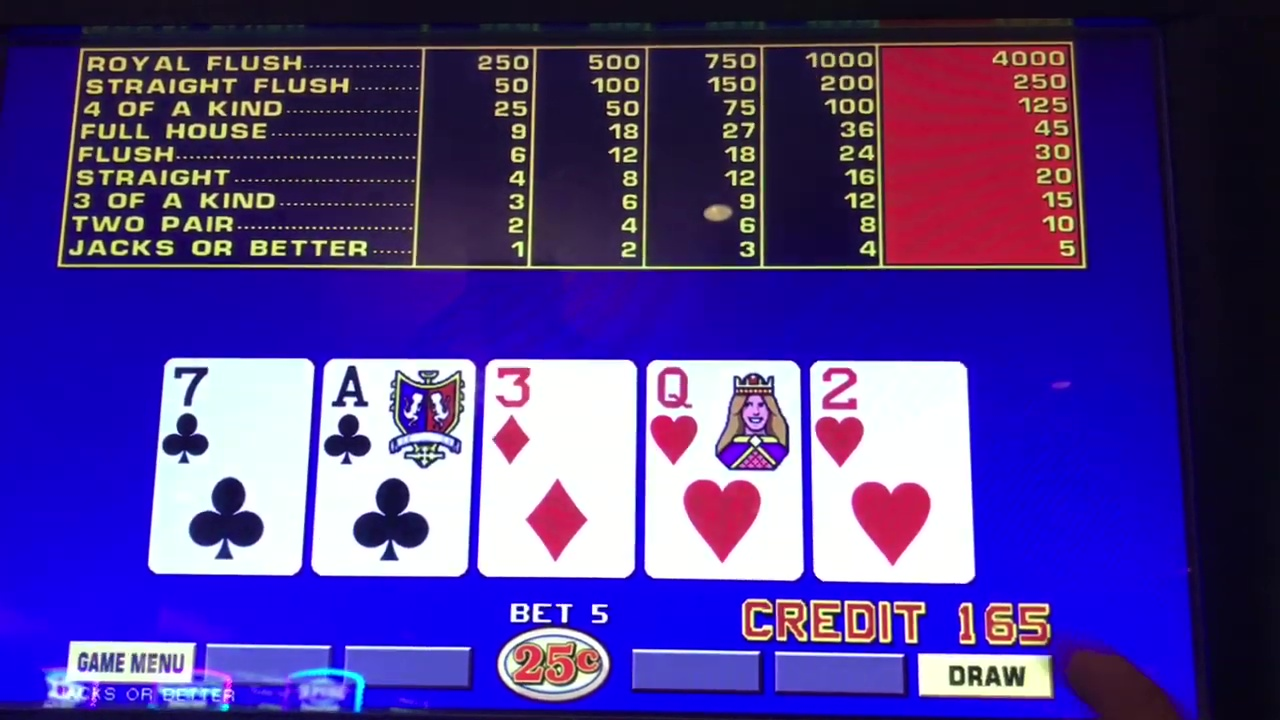C7: (162, 356, 302, 463)
CA: (322, 363, 472, 468)
D3: (488, 362, 633, 468)
H2: (814, 362, 965, 469)
HQ: (650, 363, 794, 469)
